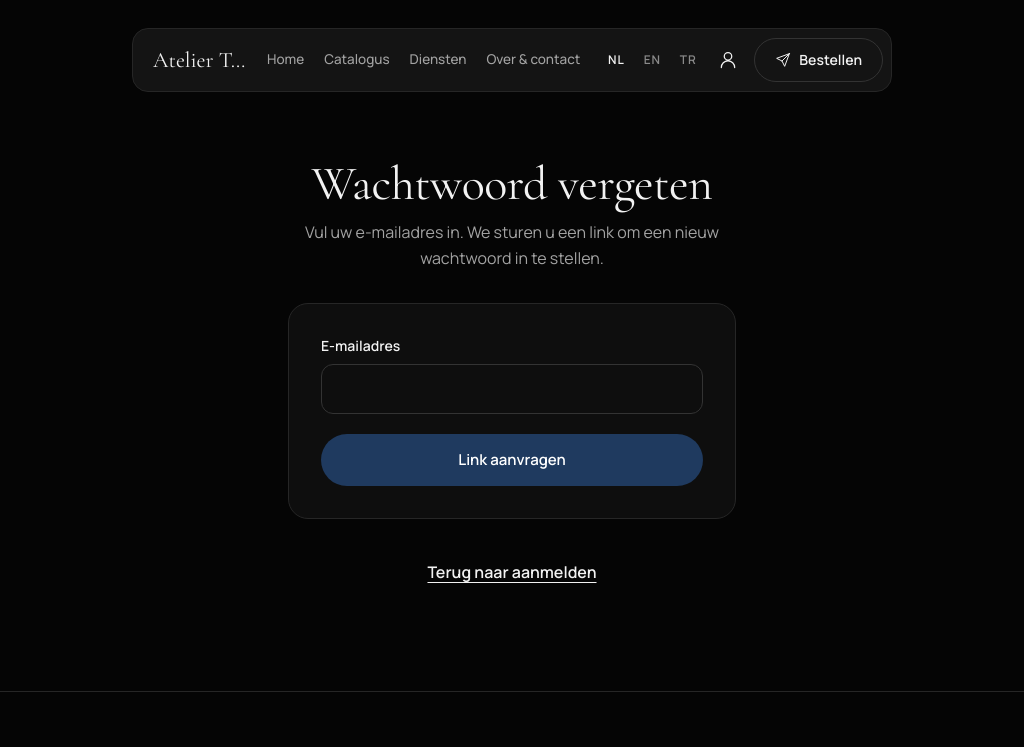
Test: forgot and reset password › confirms the request without revealing whether the account exists
The image size is (1024, 747).
Type "someone@example.com" into the field labelled "E-mailadres". click: (512, 389)
box: [321,364,703,414]
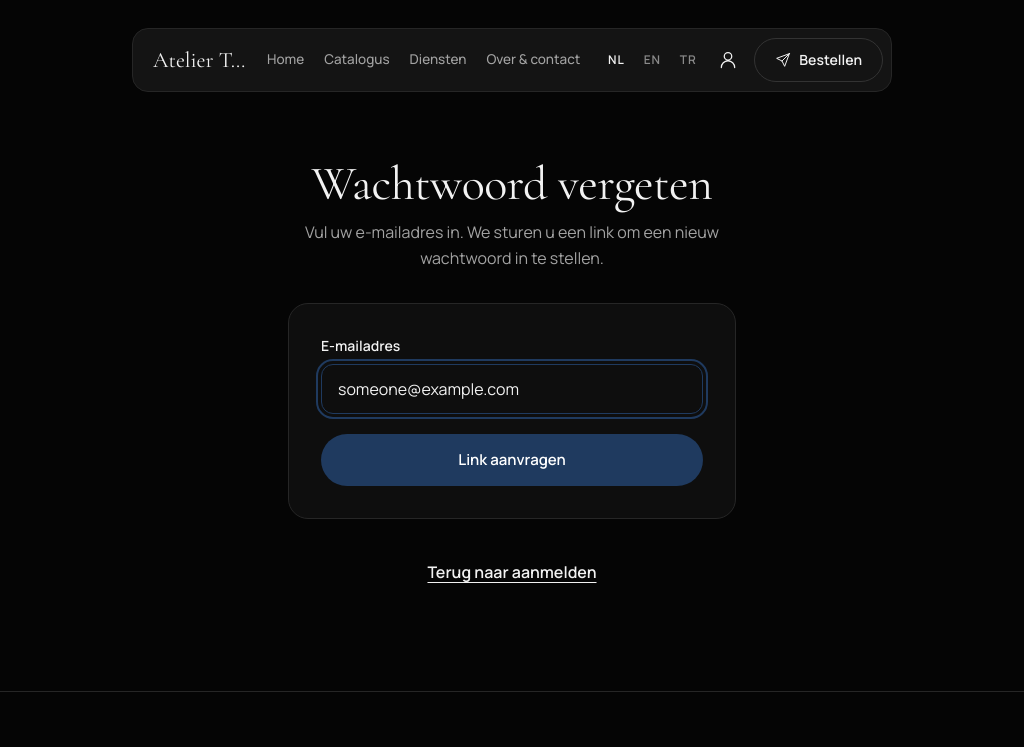
Click the button "Link aanvragen". click: (512, 460)
box: [321,434,703,486]
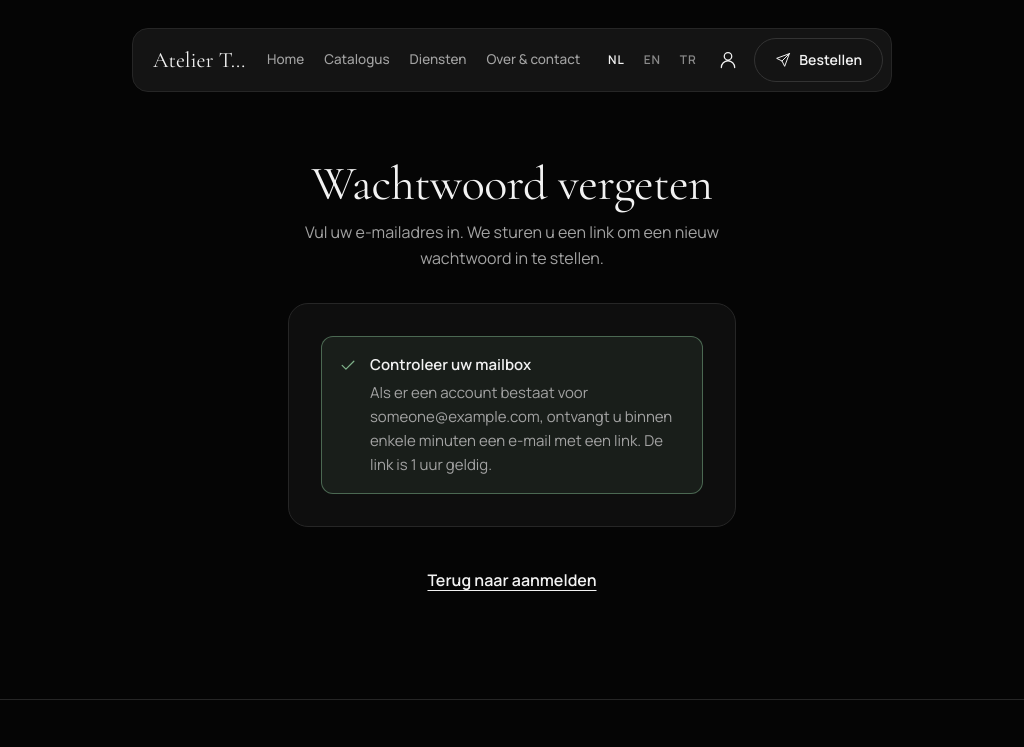
Check: the text "Als er een account bestaat voor someone@example.com" is shown, box [370,382,672,475]
